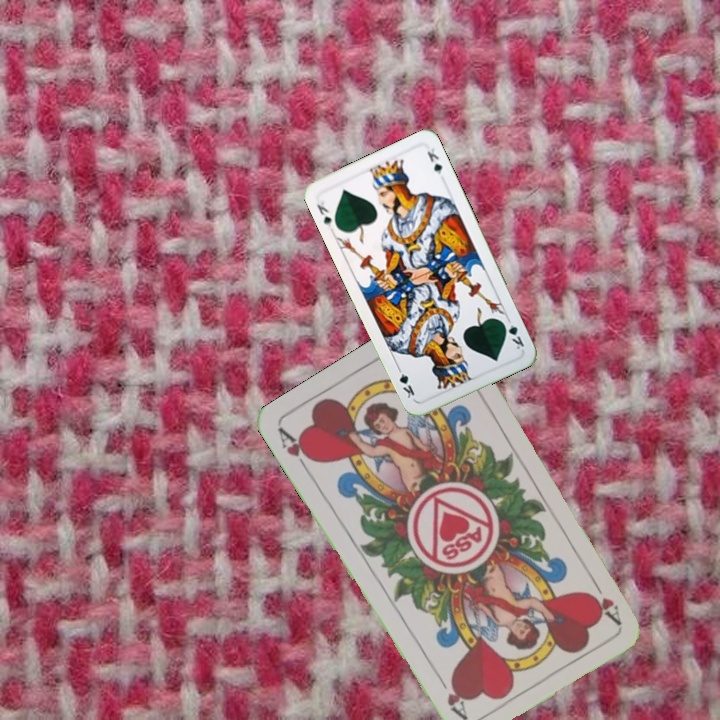GK: (498, 316, 527, 352), (313, 197, 334, 230)
HA: (274, 424, 317, 477), (586, 572, 624, 626)
